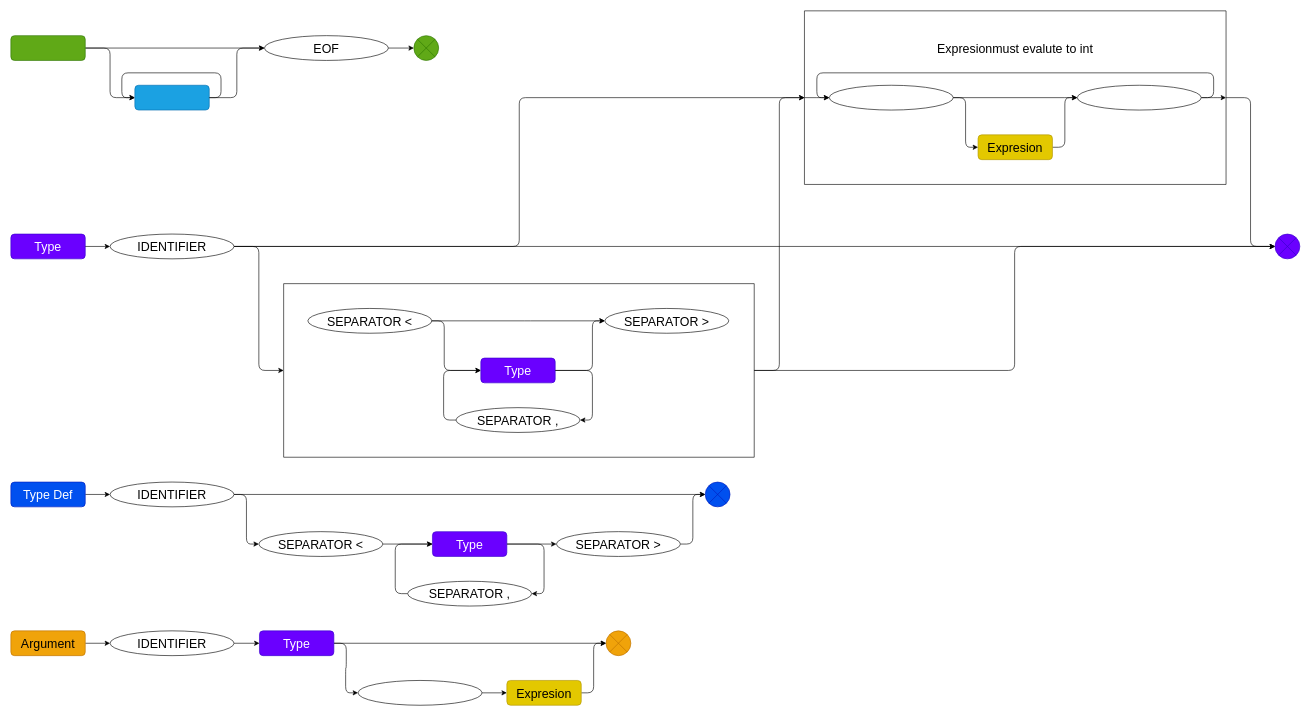
This 1311x716 diagram has some shape labels left out. The centre of each missing label's shape, as x and y in pixels:
File: (x=47, y=47)
OPERATOR =: (x=419, y=692)
SEPARATOR [: (x=891, y=97)
SEPARATOR ]: (x=1139, y=97)
Statement: (x=171, y=97)
